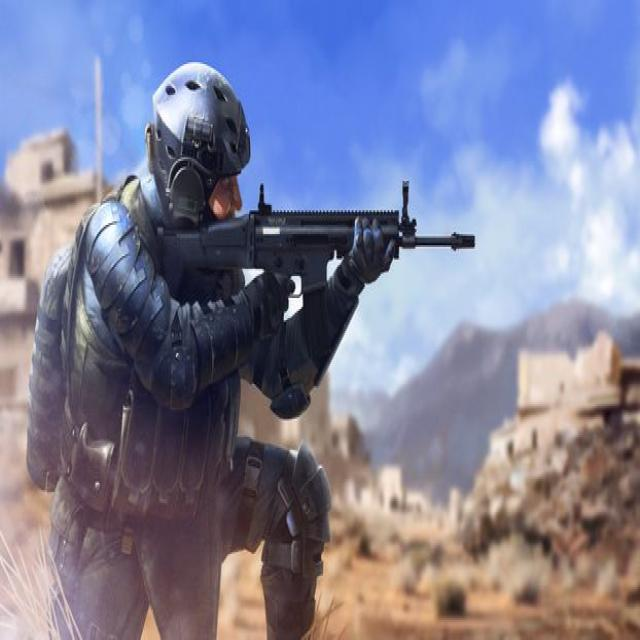firearm: (164, 180, 476, 312)
